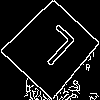L: (26, 23, 78, 76)
